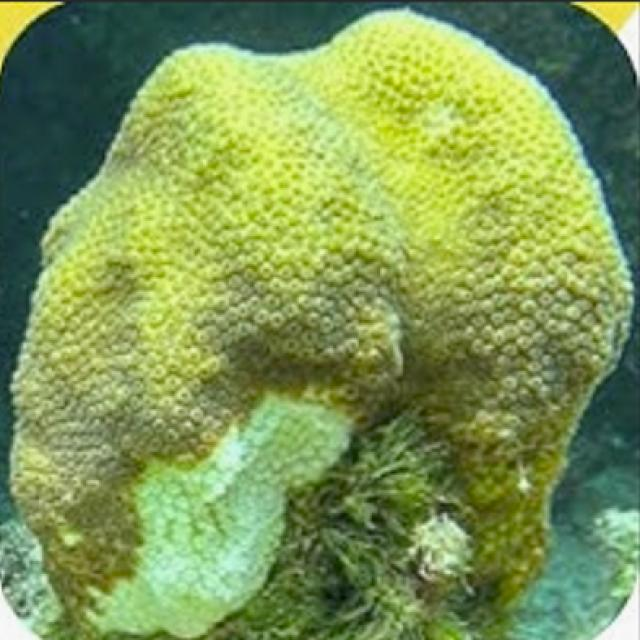Coral: (8, 8, 636, 640)
